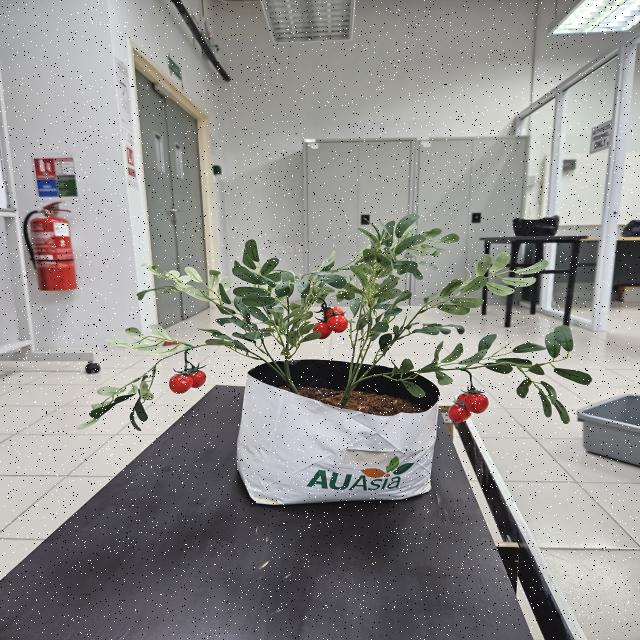Soilbag: (235, 361, 443, 509)
Tomato: (311, 304, 351, 345), (446, 391, 489, 425), (166, 365, 207, 396)
plant: (76, 214, 574, 432)
